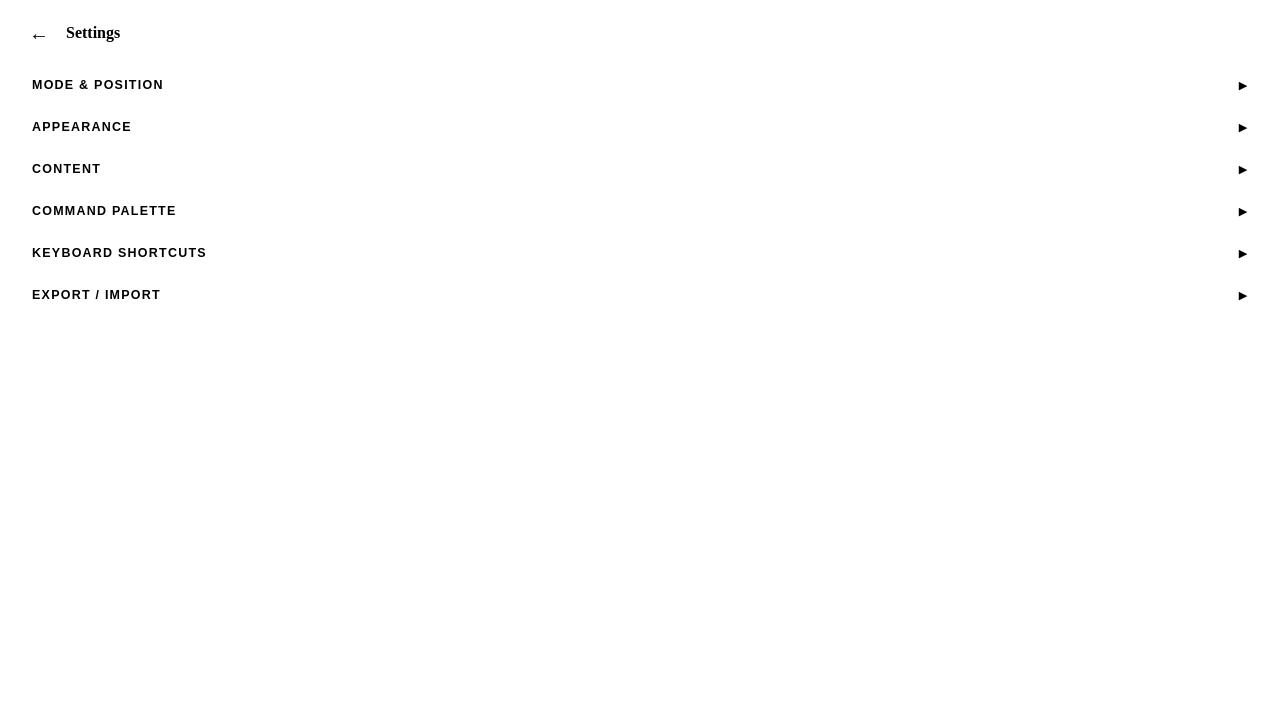
it: Config › clicking Content header reveals Show Shortcuts row
The width and height of the screenshot is (1280, 720).
Click the button "Content ▶".
click(66, 169)  # box [20,152,1260,186]
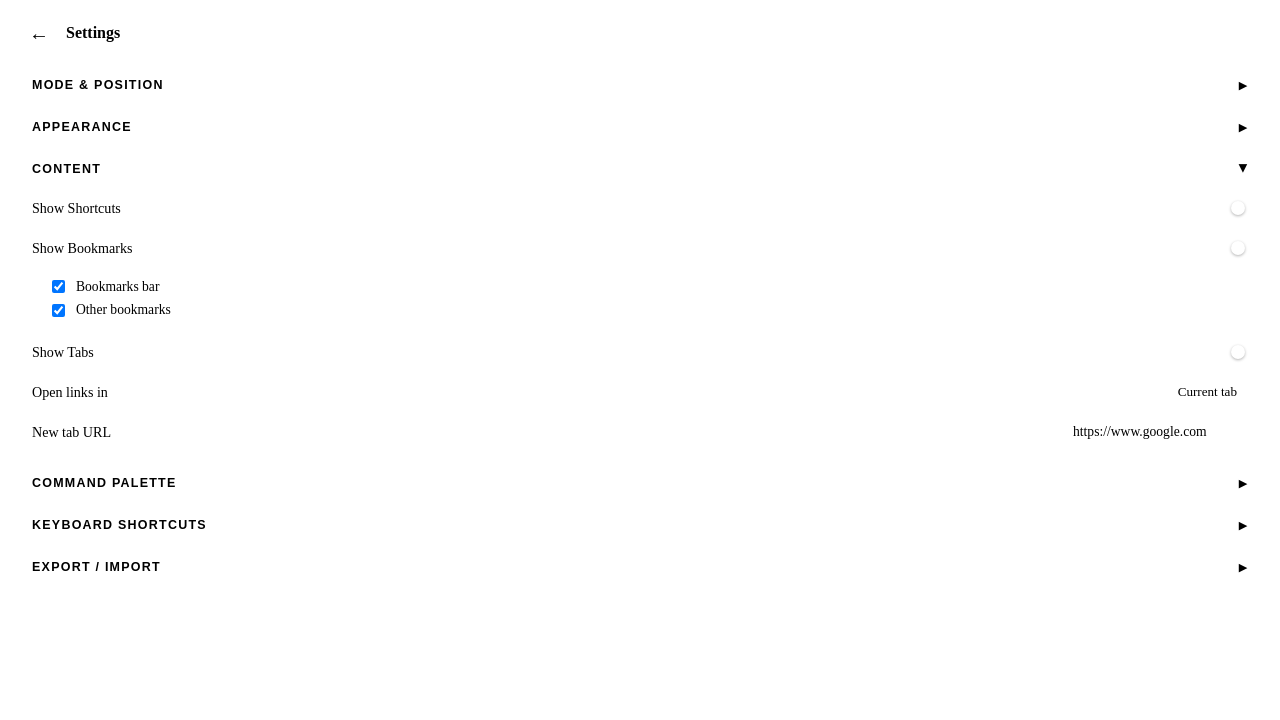
expect the text "Show Shortcuts" is shown: met, box [32,200,121,216]
